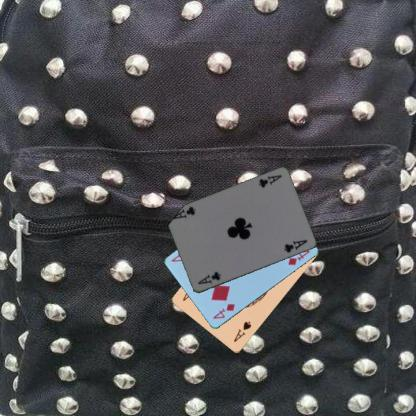4d: (210, 301, 236, 320)
Ac: (195, 269, 222, 286), (256, 172, 283, 189)
As: (231, 319, 253, 344)
